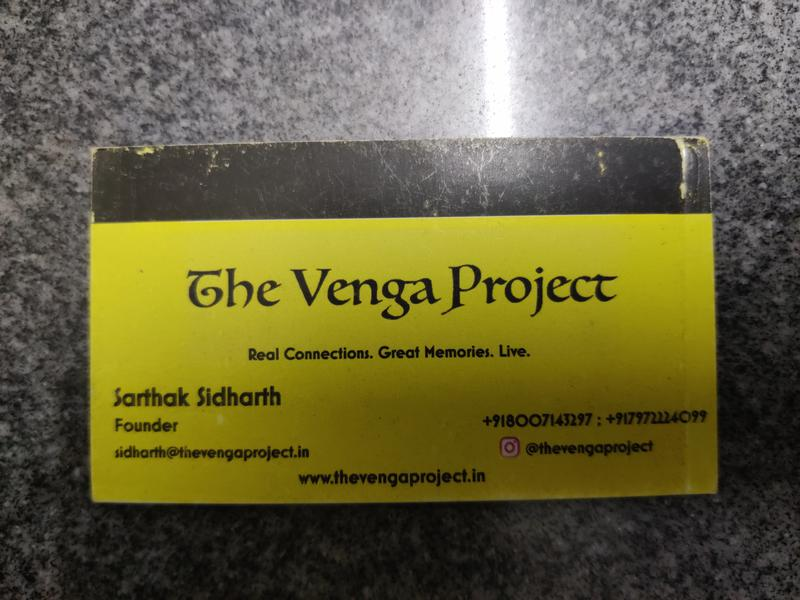card: (90, 138, 719, 504)
